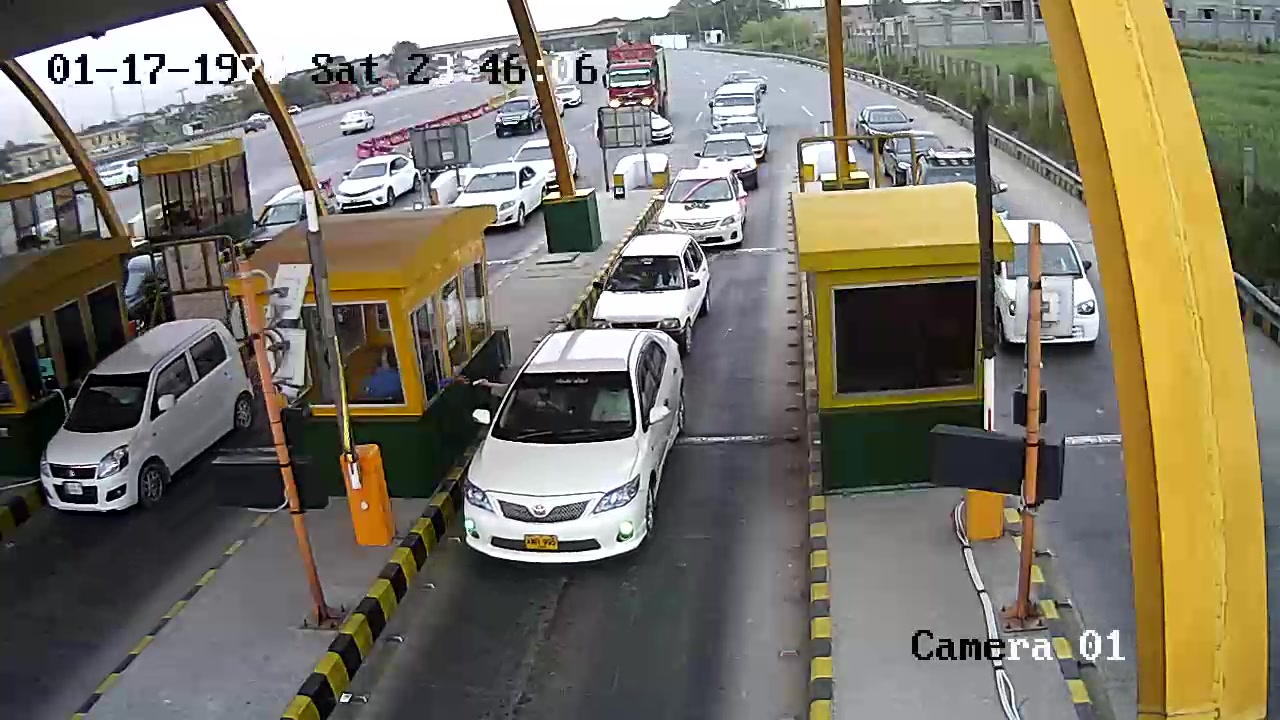F1: (457, 332, 703, 571)
